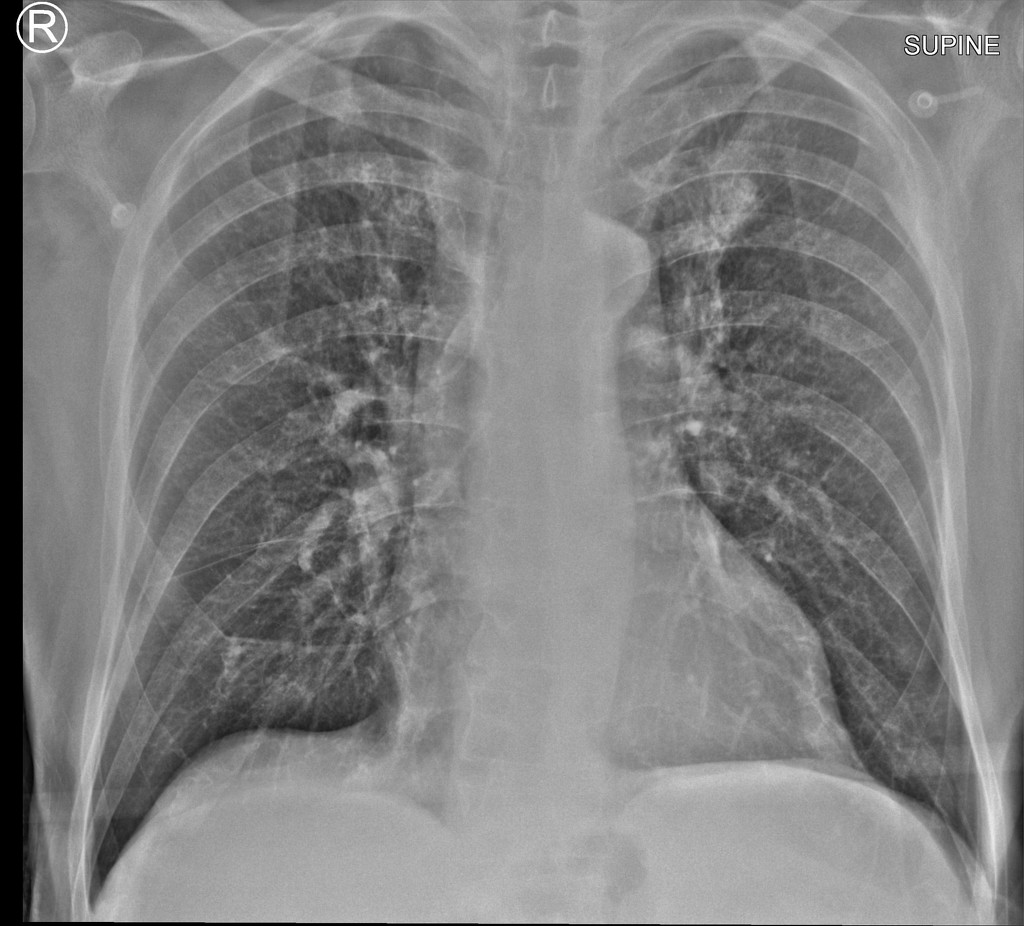cancer: (137, 94, 447, 750), (629, 167, 931, 723)
